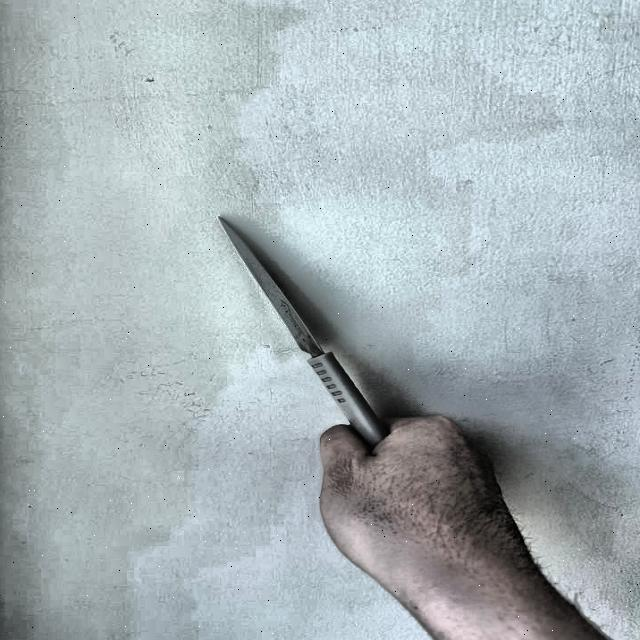knife: (215, 212, 392, 462)
